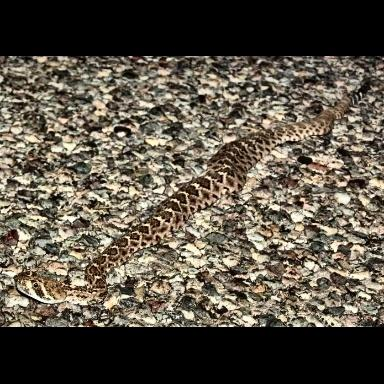snake: (6, 96, 353, 311)
